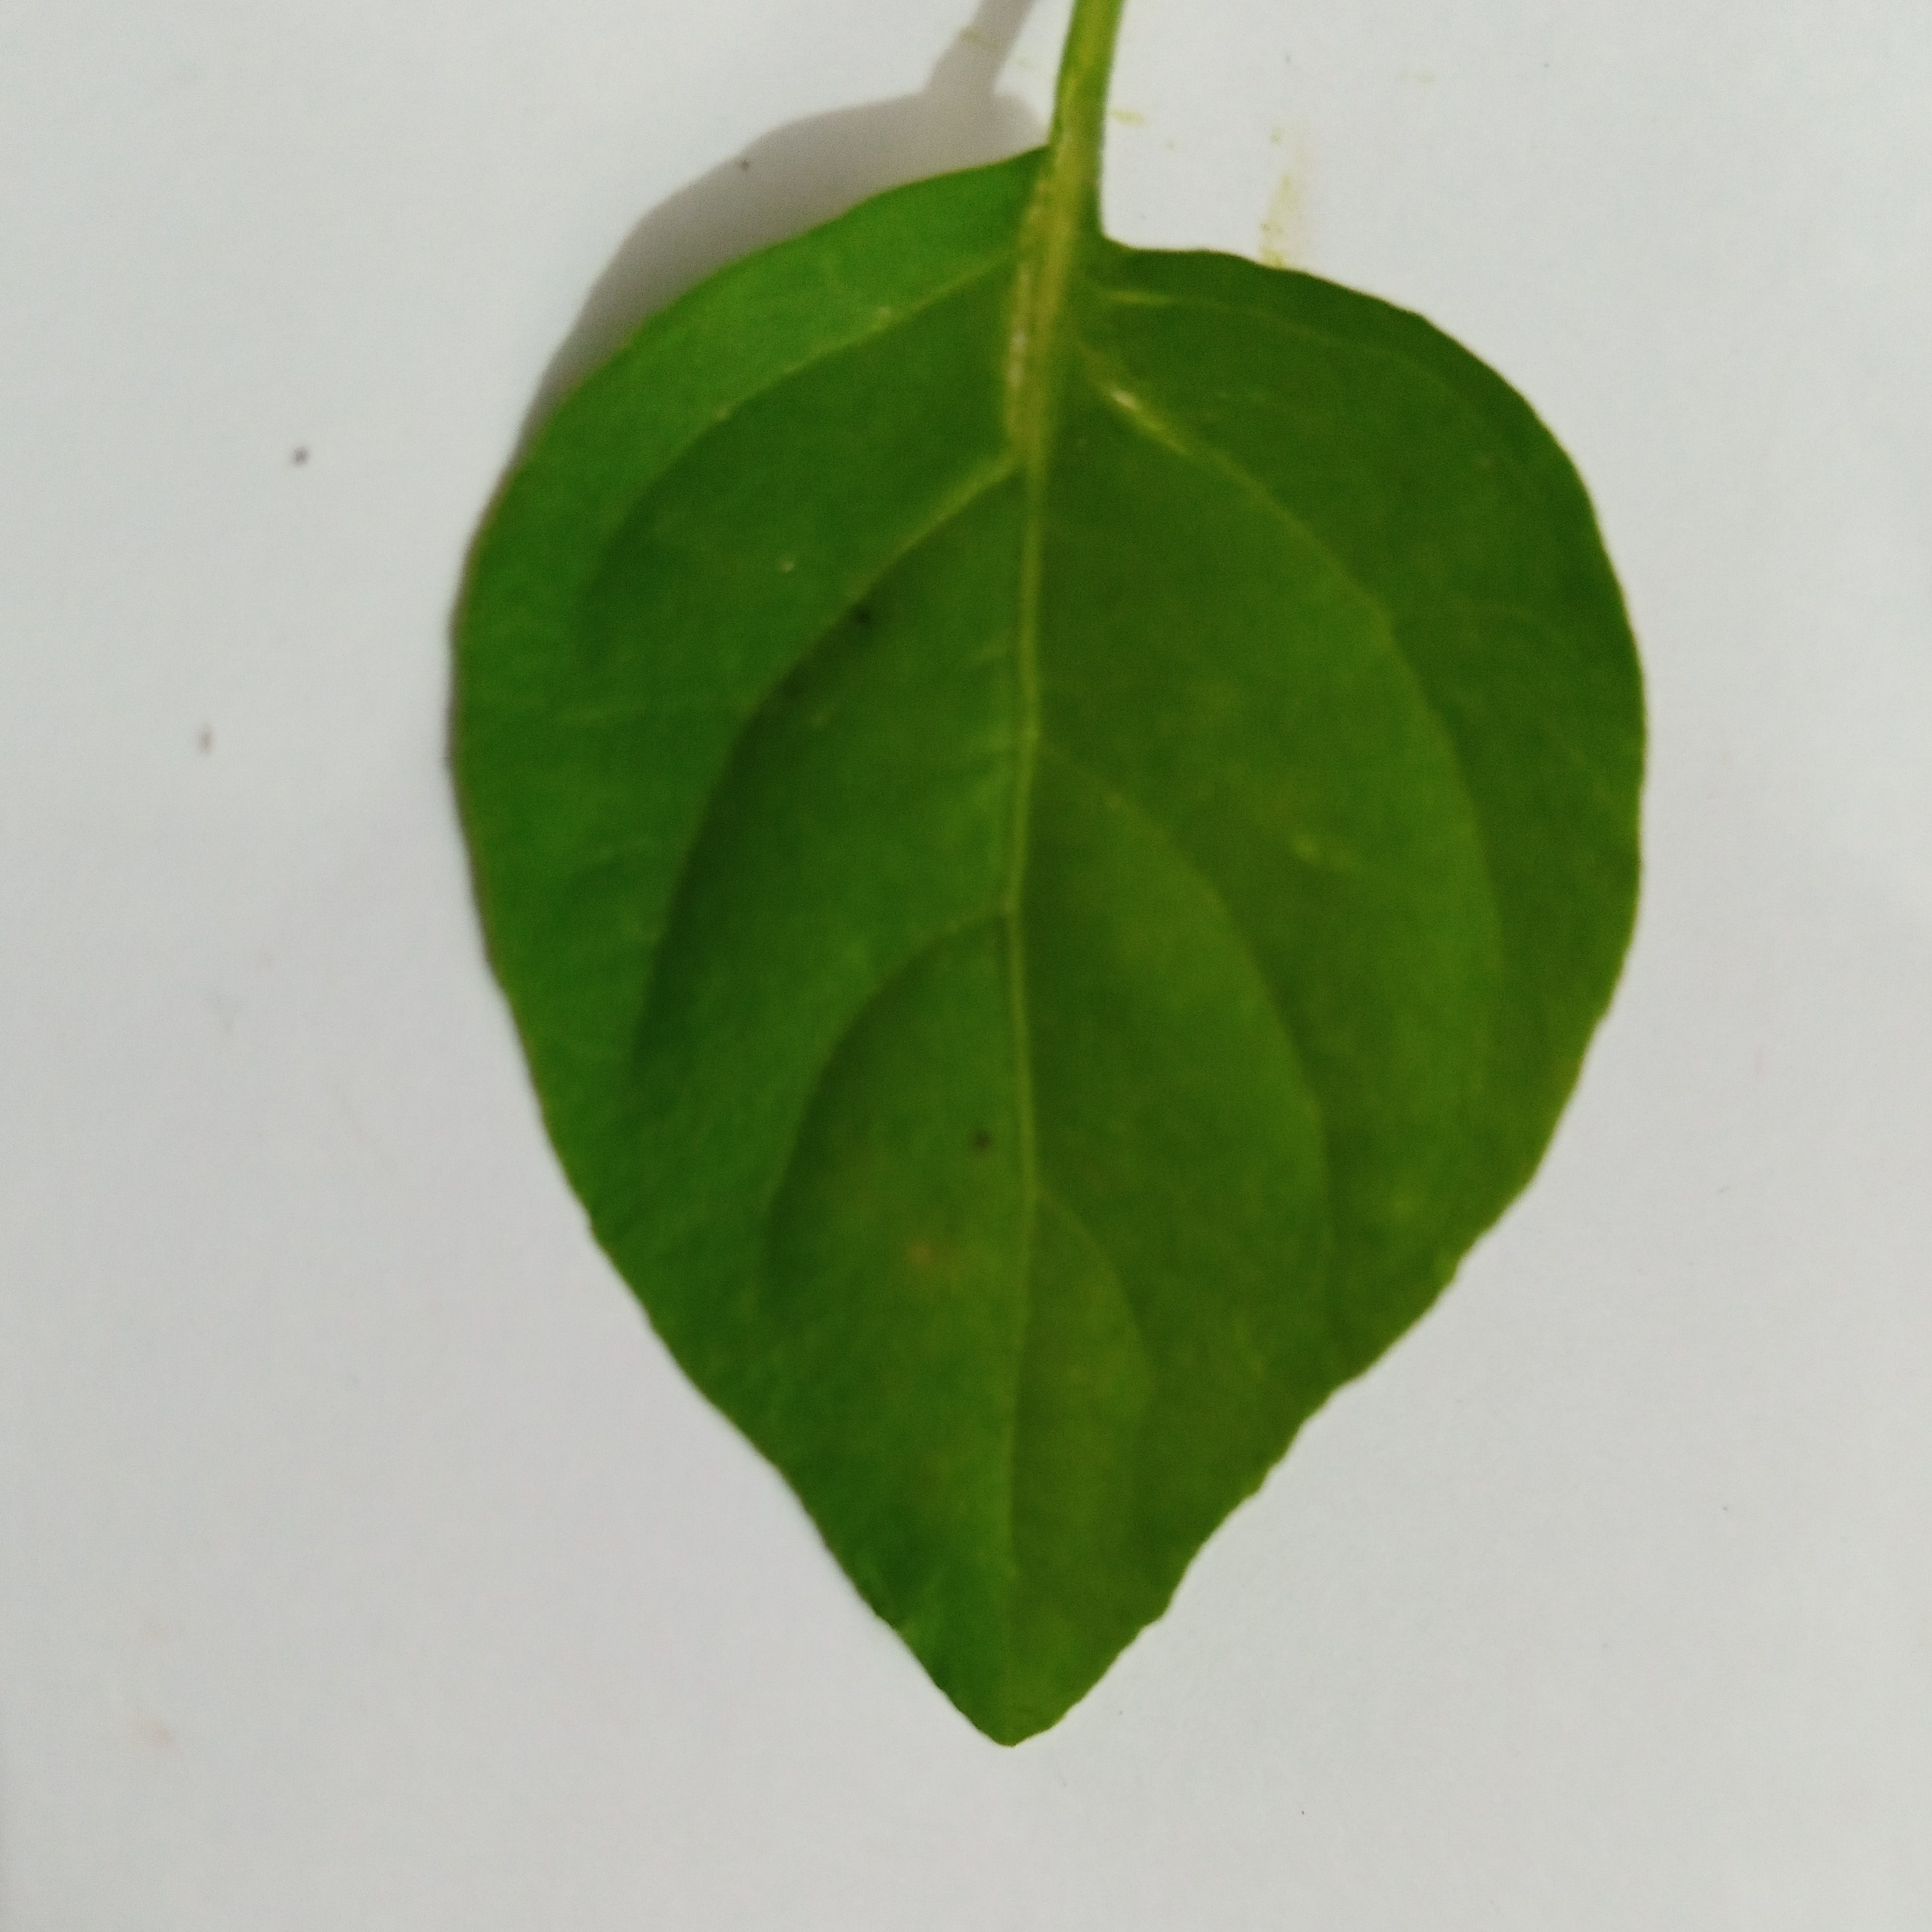Leaf: (287, 104, 1748, 1771)
